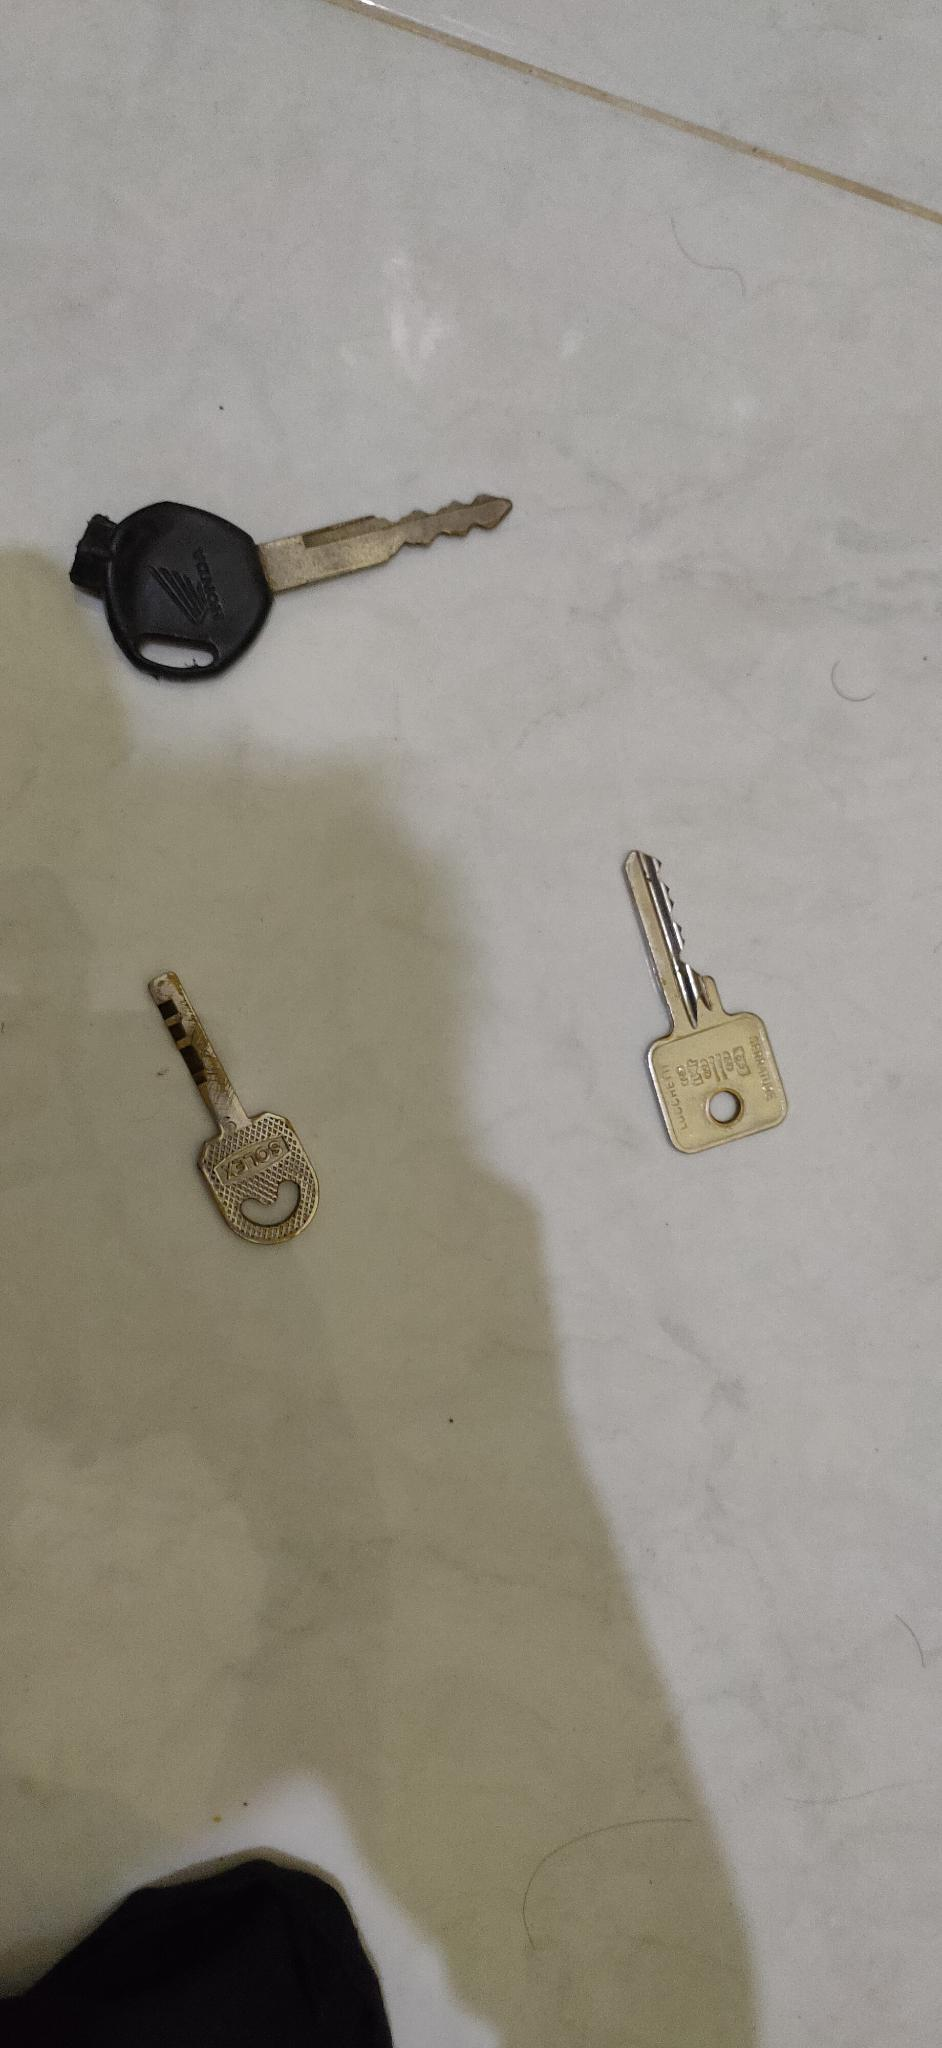keys: (37, 468, 544, 696), (611, 835, 800, 1177), (131, 963, 344, 1249)
